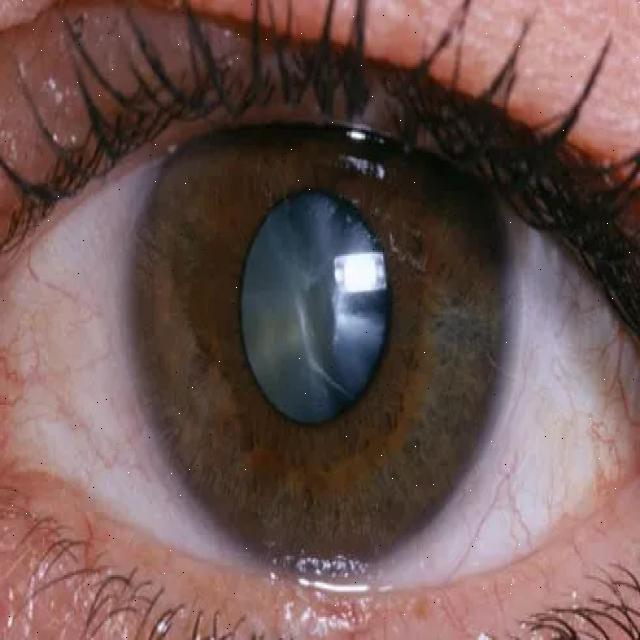Cataract: (122, 23, 520, 579)
